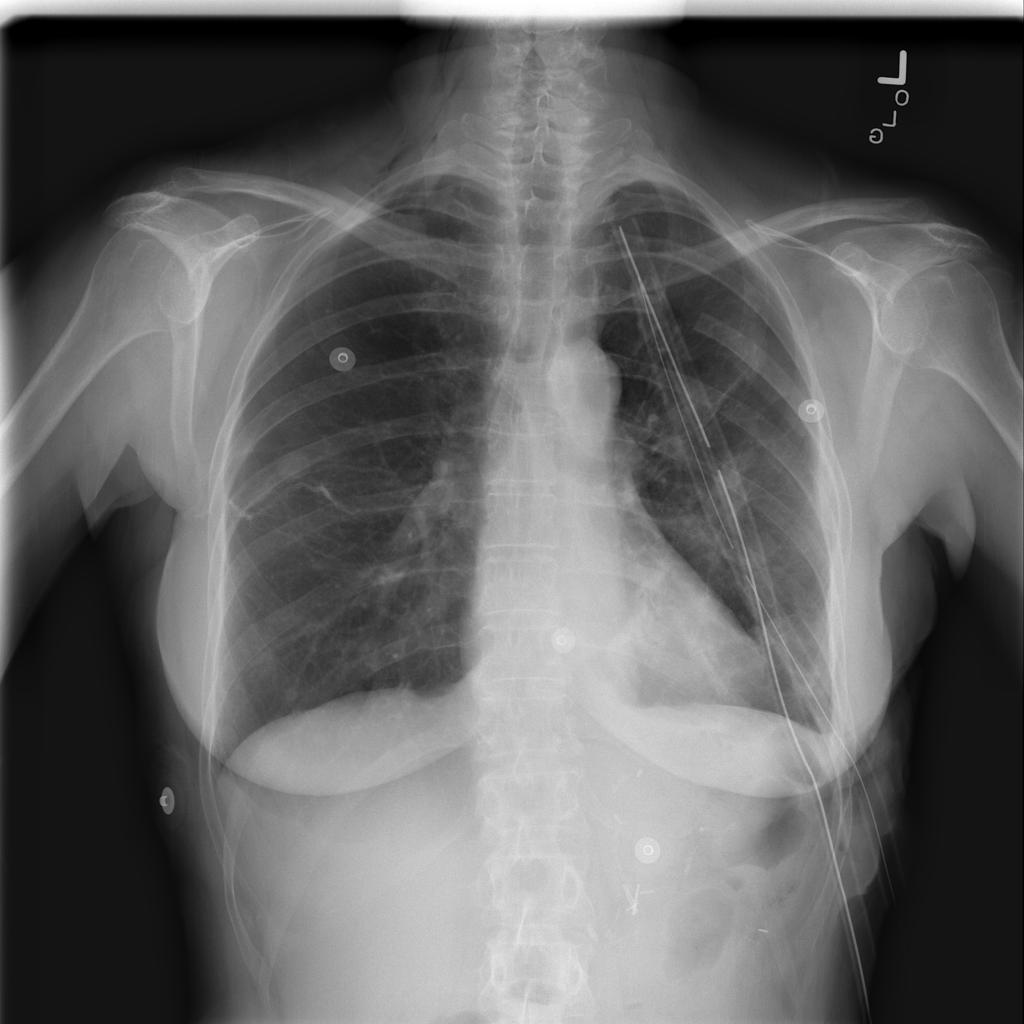nodule: (269, 444, 326, 491), (267, 668, 316, 719)
